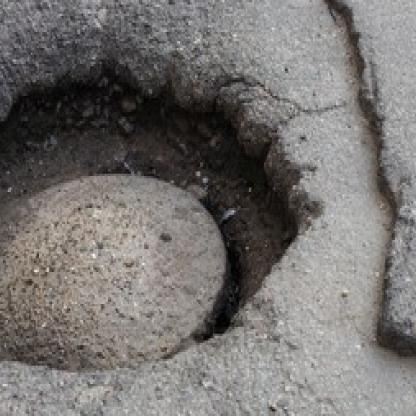pothole: (0, 50, 321, 384)
